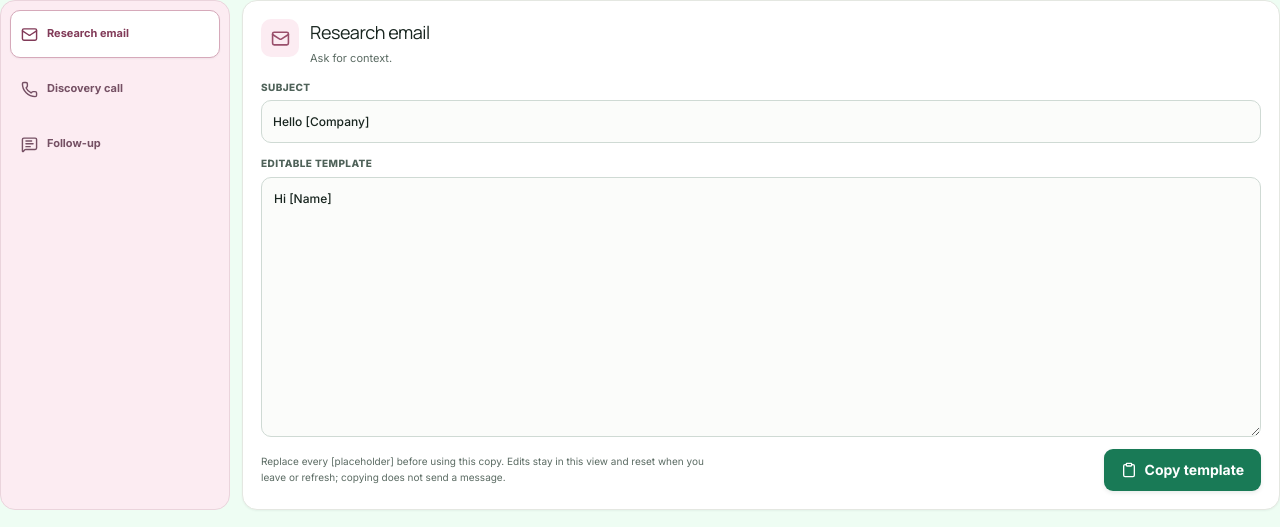
Scenario: SalesTemplateWorkbench › keeps template edits local and copies the edited message without claiming it was sent
Replace the text in the text box labelled "Editable template" with "Edited for [Company]" at (761, 307), box [261,177,1261,437]
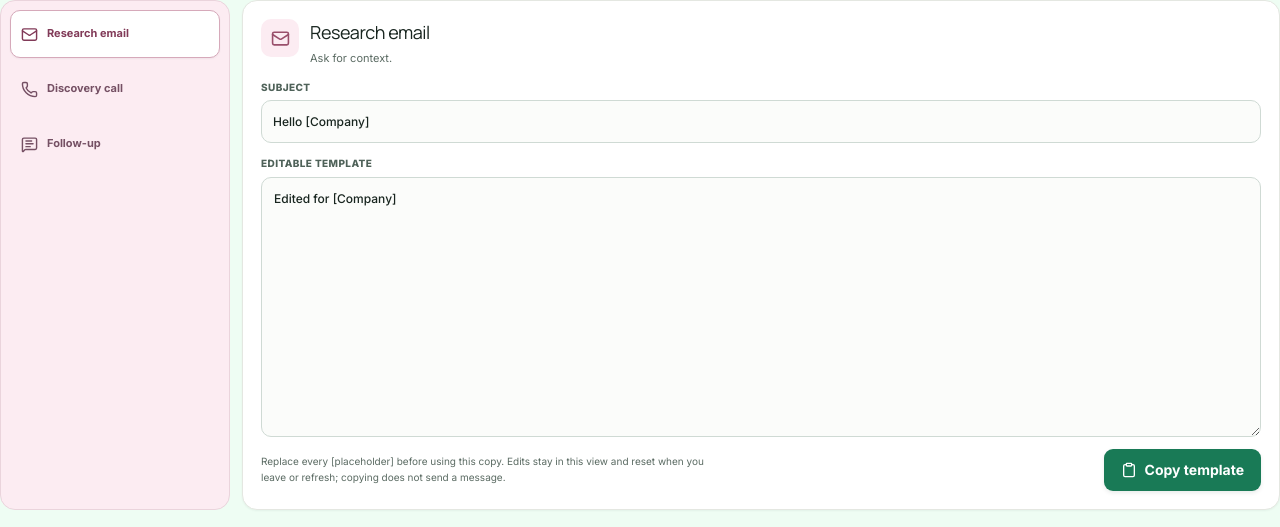
Click the button "Copy template".
click(1182, 470)  # box [1104,449,1261,491]
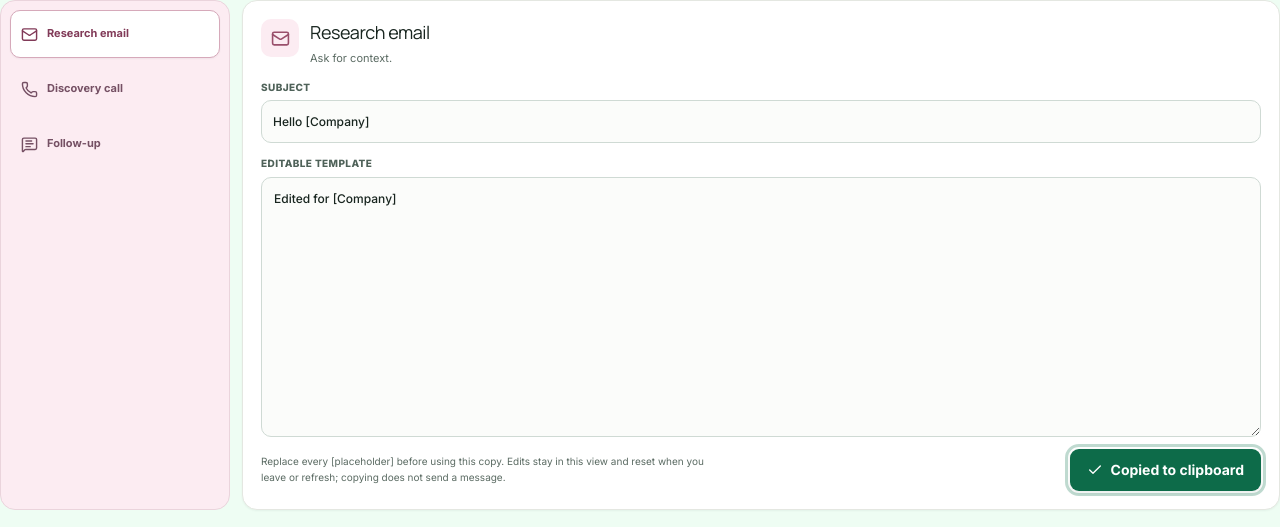
Expected: the text "Copying does not send a message" is shown, [261,455,704,483]
Now the button "Copied to clipboard" is shown, box [1070,449,1261,491]
